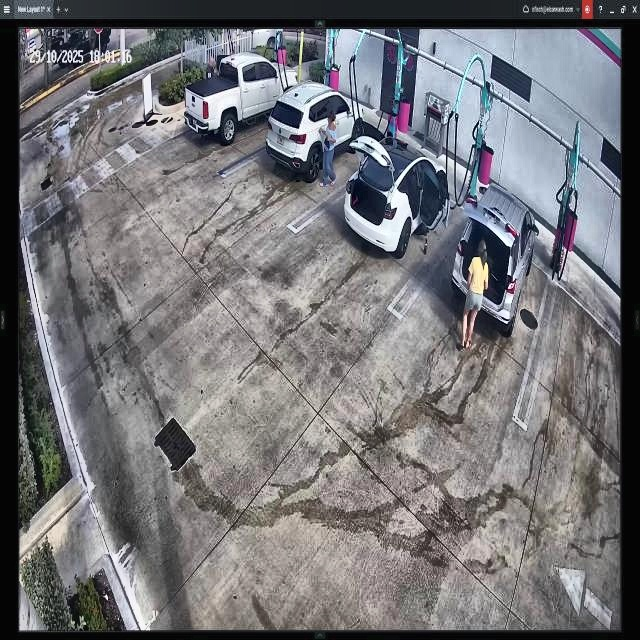Car: (342, 128, 449, 258), (452, 181, 536, 334), (274, 88, 364, 183)
